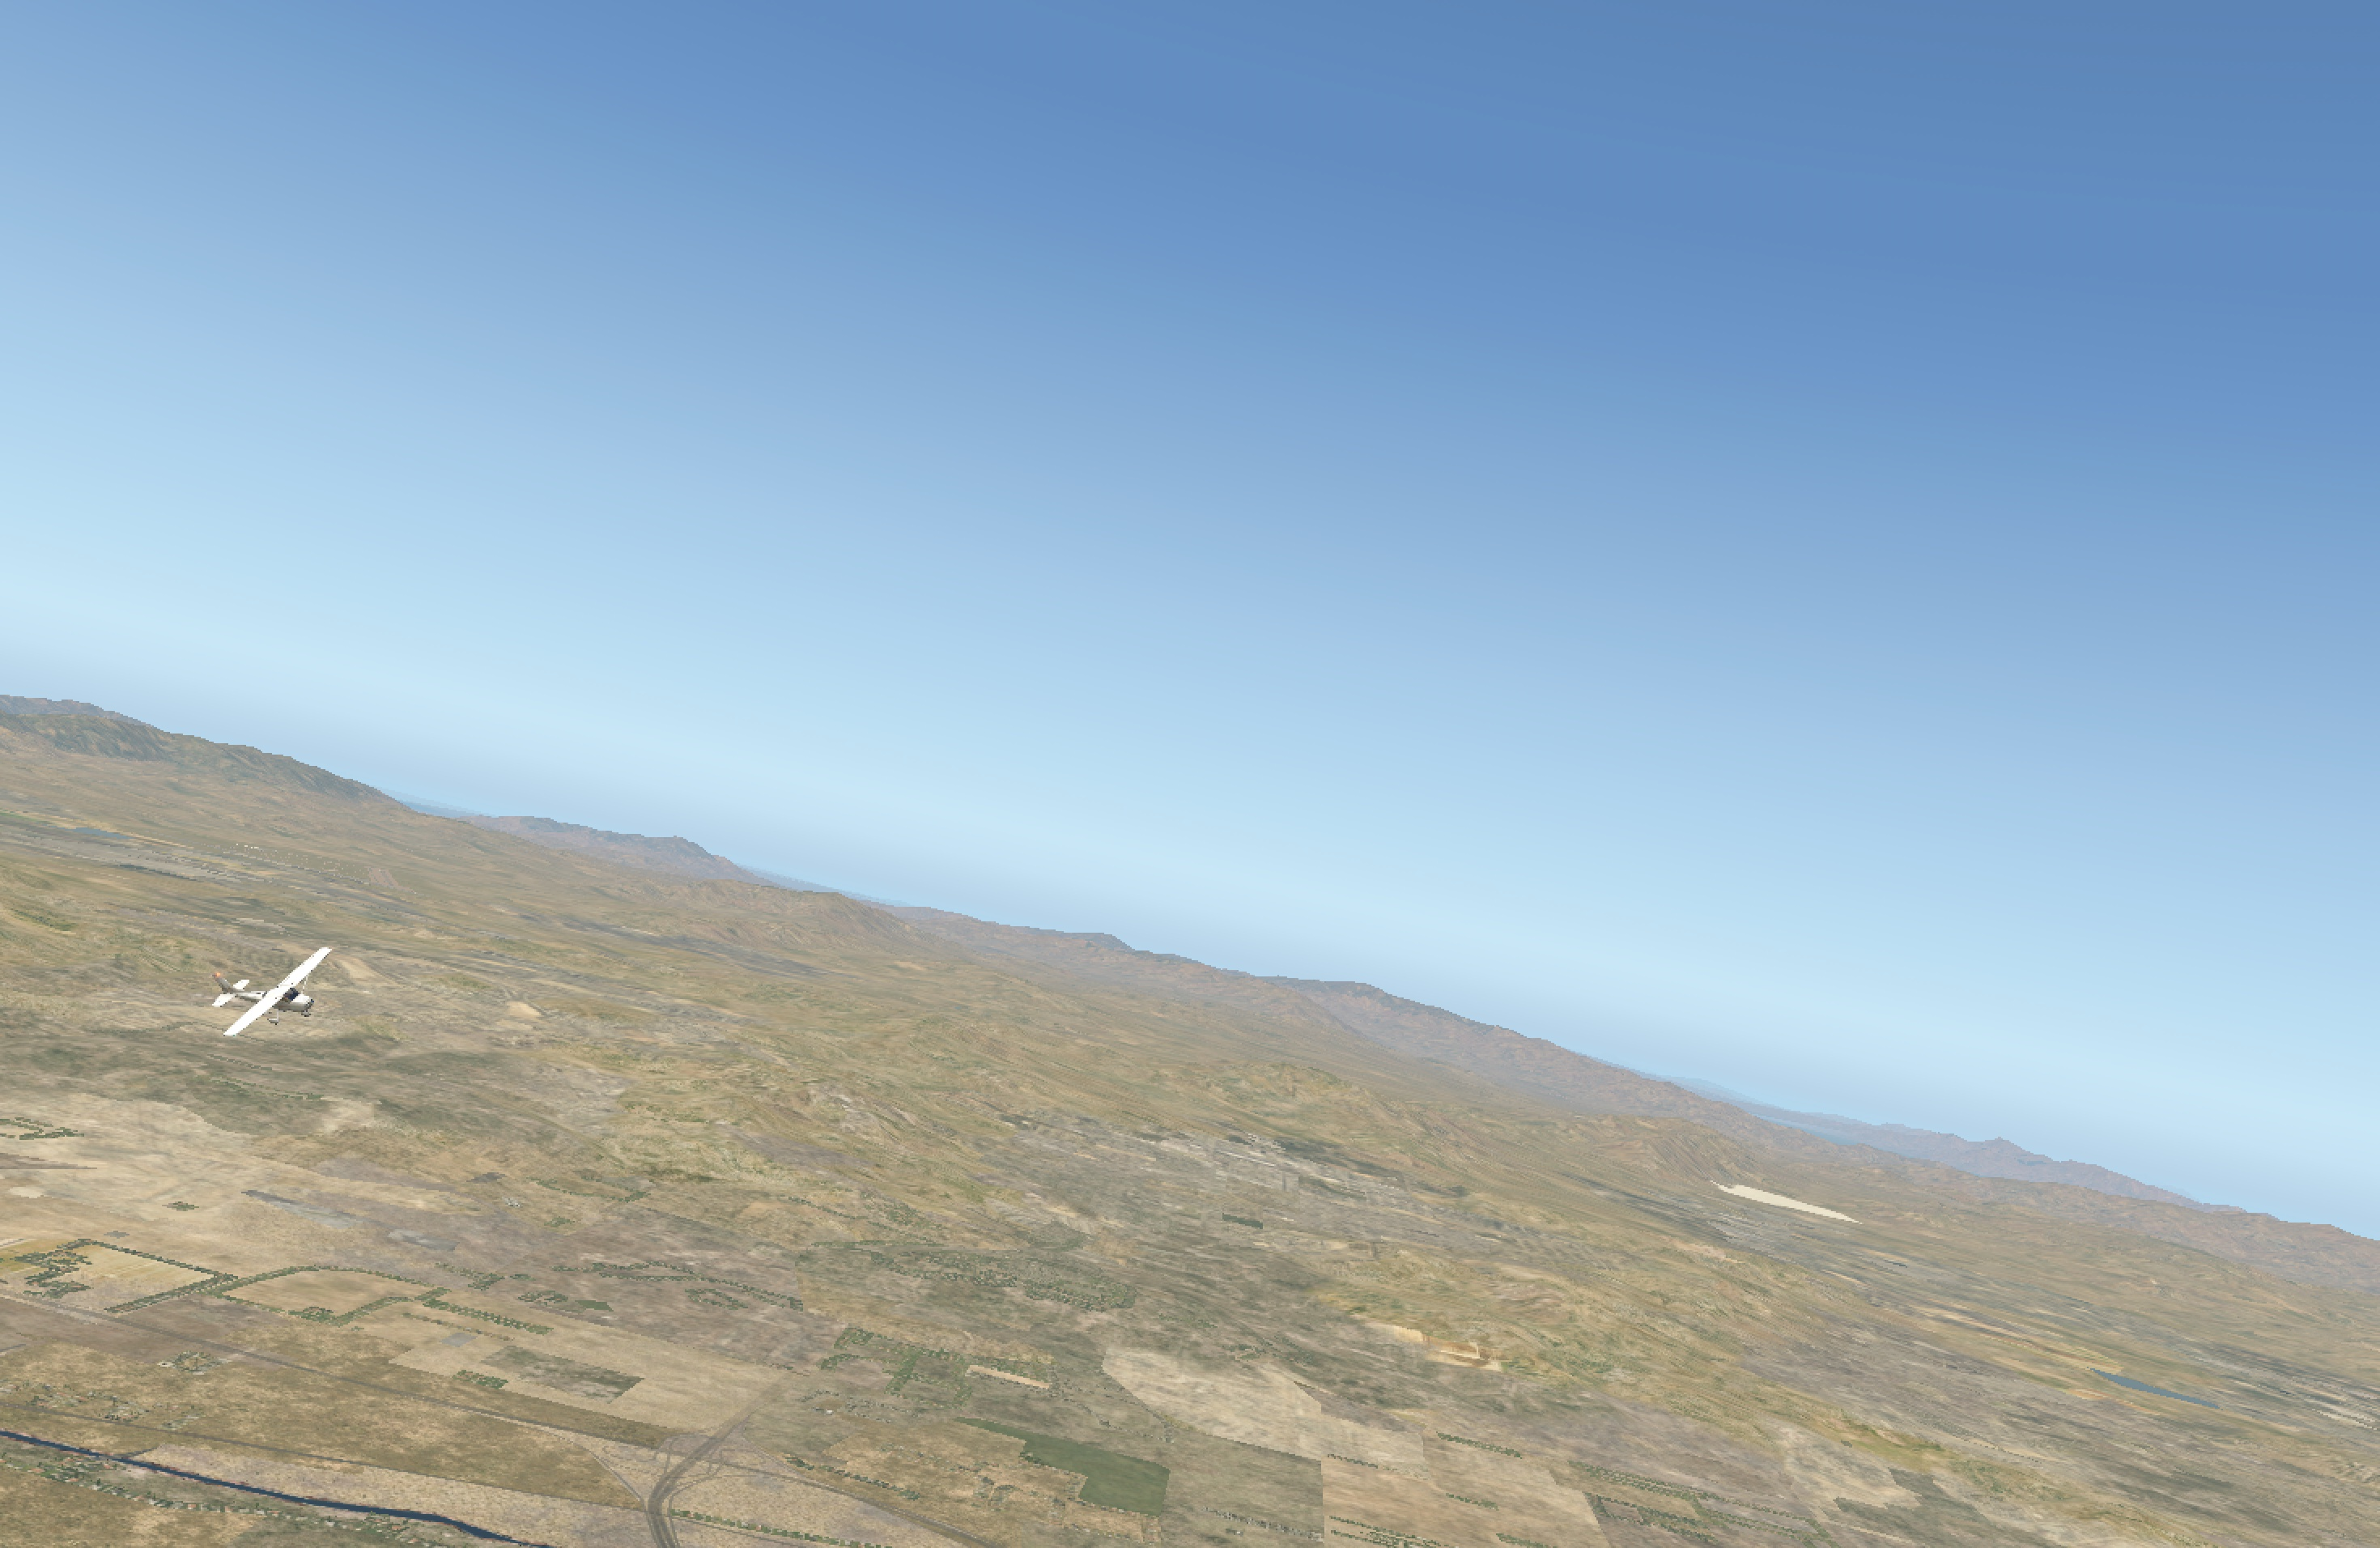aircraft: (234, 979, 337, 1017)
